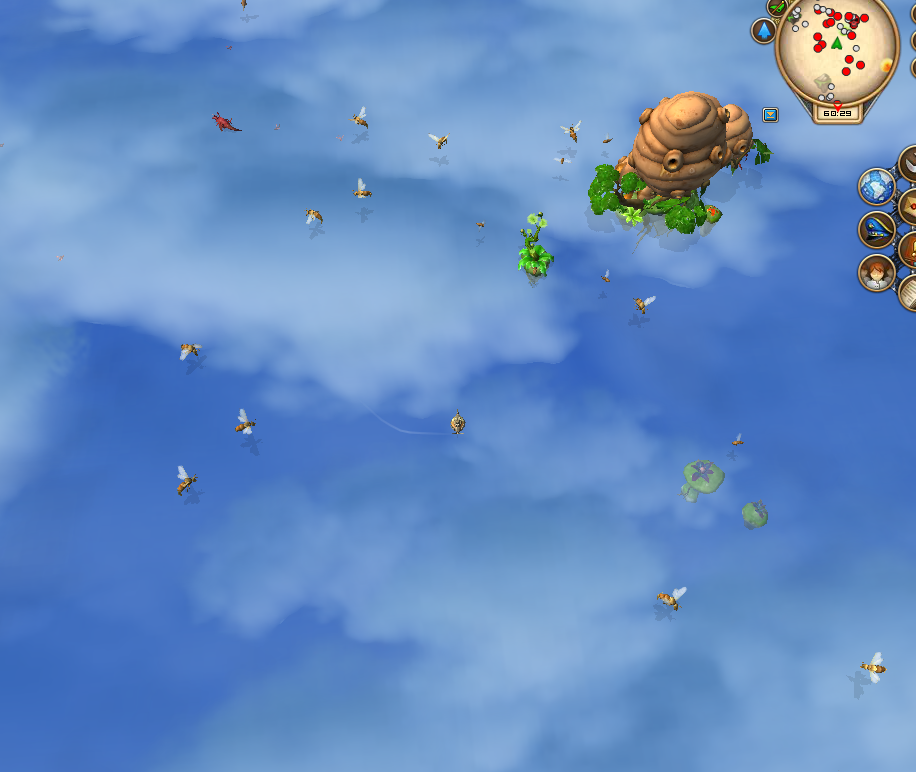dandelion-full: (513, 207, 557, 290)
